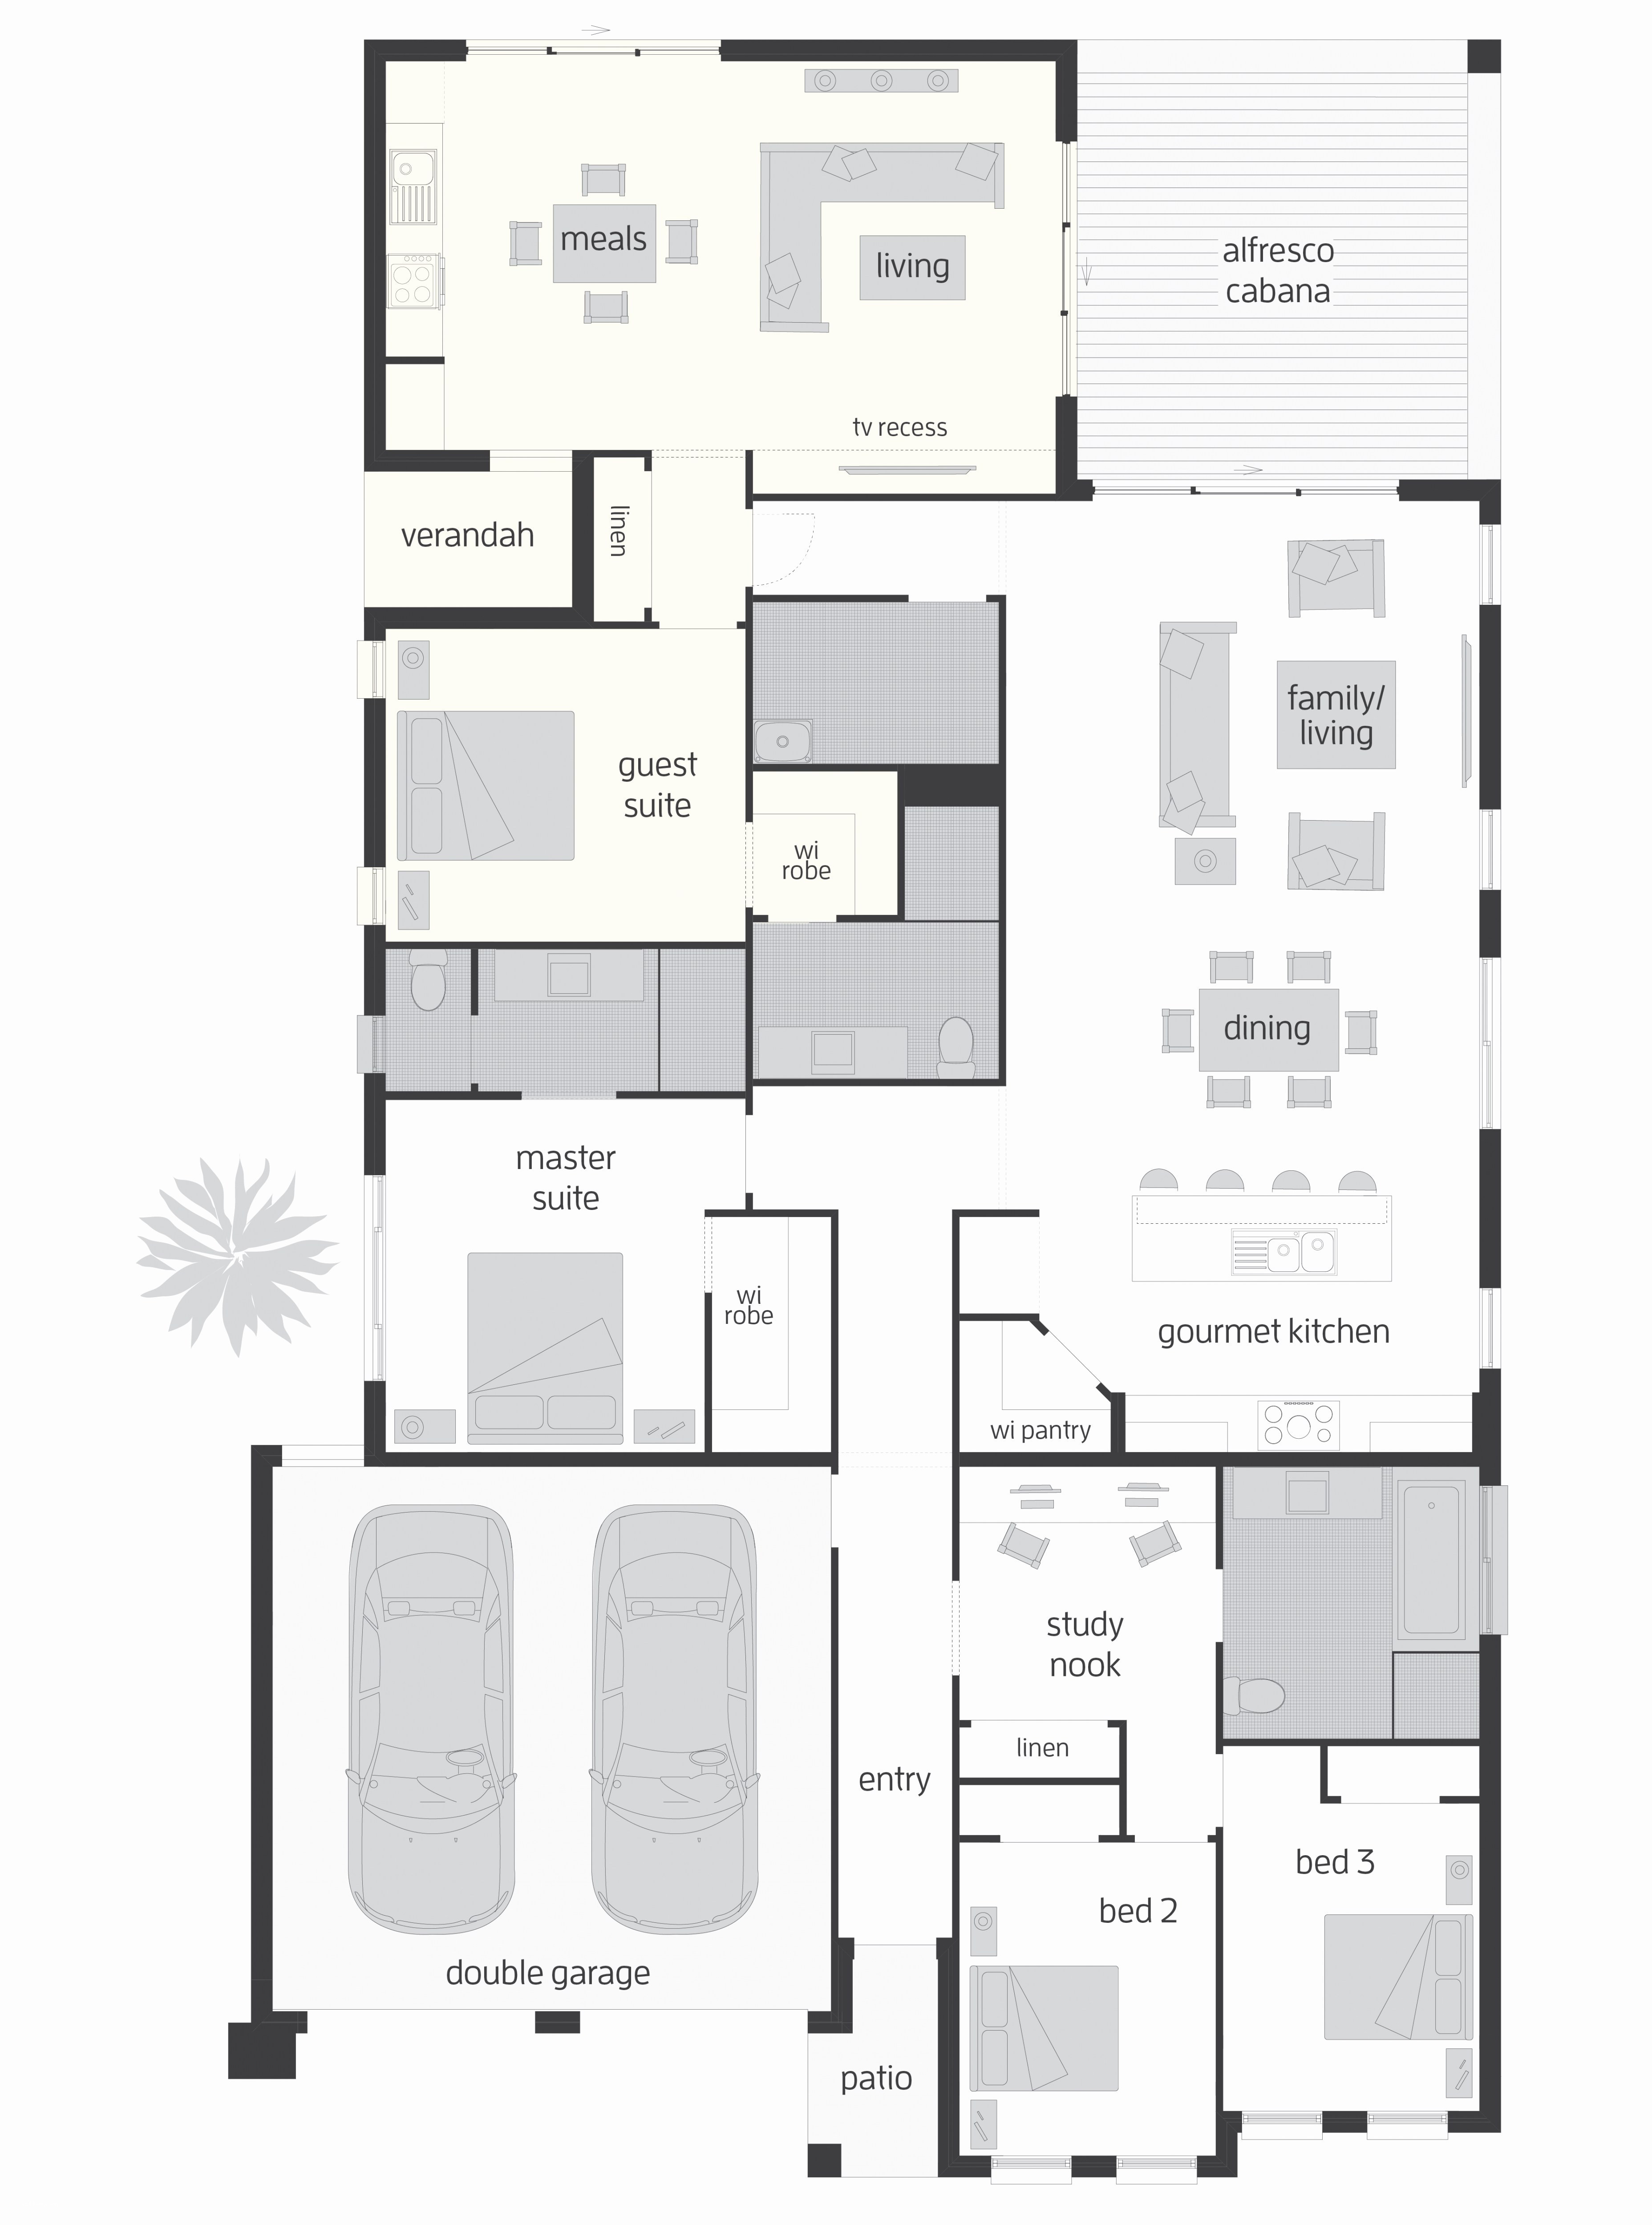window: (1053, 140, 1081, 399), (1090, 479, 1402, 501), (361, 1174, 387, 1382), (1477, 1483, 1510, 1637), (1477, 956, 1504, 1132), (465, 38, 722, 57), (989, 2154, 1074, 2187), (1114, 2154, 1199, 2187), (1239, 2111, 1324, 2143), (1366, 2109, 1449, 2142), (1477, 1285, 1504, 1372), (1477, 806, 1503, 893), (1477, 522, 1503, 607), (356, 1013, 387, 1075), (356, 865, 387, 926), (356, 640, 387, 699)
